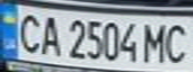0: (103, 19, 121, 62)
2: (63, 16, 87, 60)
4: (118, 19, 142, 63)
5: (84, 17, 106, 61)
A: (36, 12, 63, 56)
C: (12, 9, 45, 55), (163, 20, 193, 64)
M: (139, 19, 172, 64)
